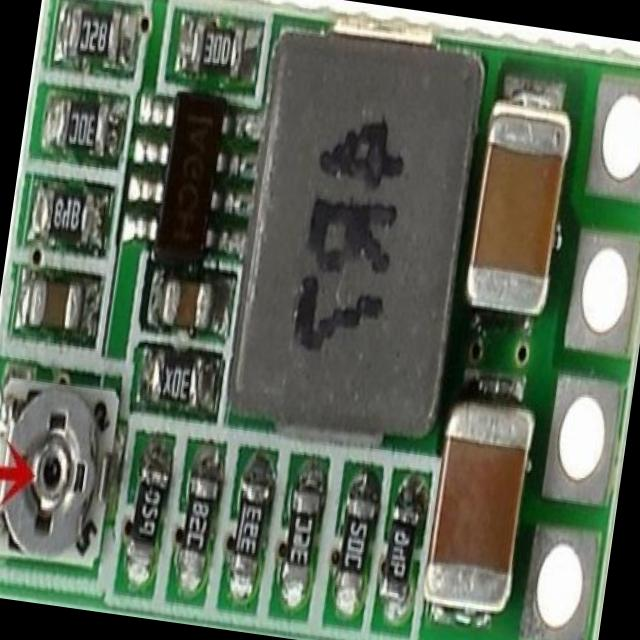IC: (132, 82, 242, 276)
capacitor: (456, 96, 584, 335), (416, 392, 538, 636), (150, 271, 226, 332), (29, 278, 89, 330)
potentiometer: (0, 372, 119, 570)
resistor: (332, 475, 384, 604), (374, 484, 425, 612), (276, 472, 328, 594), (120, 451, 170, 560), (230, 465, 274, 576), (141, 342, 208, 414), (64, 1, 134, 67), (175, 464, 220, 566), (51, 84, 116, 154), (184, 17, 250, 84), (33, 179, 102, 241)
